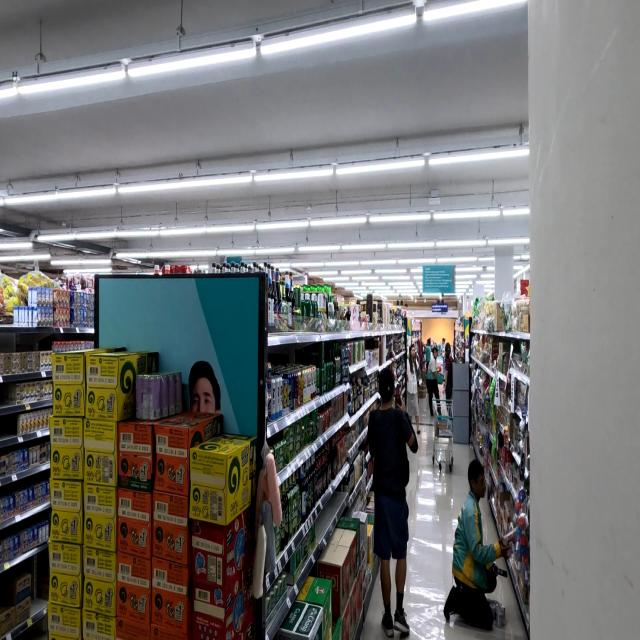shoplifting: (370, 363, 415, 632)
